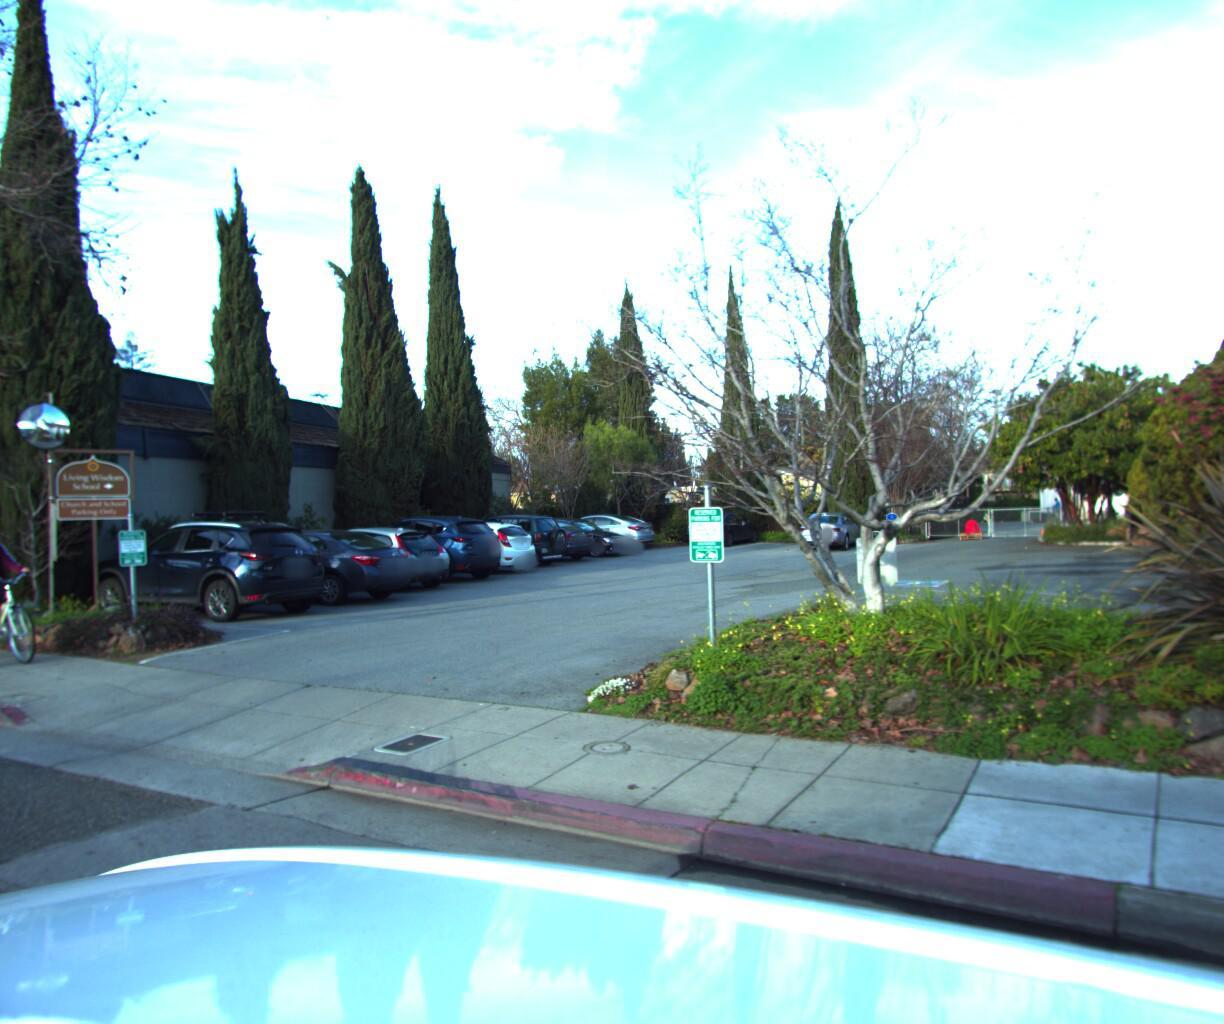bicycle: (0, 509, 61, 671)
car: (73, 508, 338, 617), (187, 519, 421, 603)
